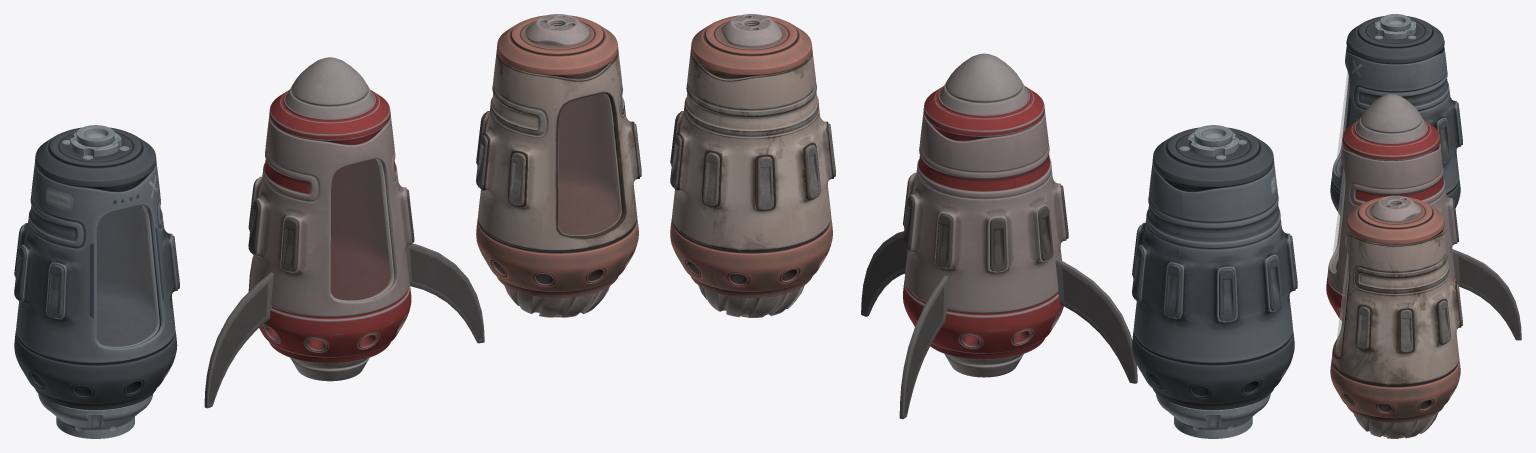
Rendered from sci-fi_pod_collection.glb.
The picture shows the model from 3 angles, left to right: view 1: azimuth 30°, elevation 25°; view 2: azimuth 150°, elevation 25°; view 3: azimuth 270°, elevation 25°; orthographic projection. The views are drawn at different scales.
Visible parts, largest first — view 1: 62321108__7179P001_2_0, 62321108__7179P001_3_0, 62321108__7179P001_23_0, Line002_glass_0 (×3), 62321128__109587P001_mid3_0, 62321128__109587P001_mid1_0, 62321128__109587P001_mid2_0, Plane004_poch_0, Cylinder003_t2_0, Canister_20, 62321092__6034P, 62321096__6084P (+5 smaller); view 2: 62321108__7179P001_2_0, 62321108__7179P001_3_0, 62321108__7179P001_23_0, Plane004_poch_0, Cylinder003_t2_0, 62321113__7264P001_m1_0, 62321113__7264P001_m3_0, 62321113__7264P001_m2_0, Canister_20, 62321092__6034P, 62321096__6084P, Canister_21 (+1 smaller); view 3: 62321108__7179P001_3_0, 62321108__7179P001_2_0, 62321108__7179P001_23_0, Cylinder003_t2_0, Plane004_poch_0, Line002_glass_0 (×3), 62321113__7264P001_m1_0, 62321092__6034P, 62321096__6084P, Canister_21, 62321113__7264P001_m3_0.
Boxes of the visible parts, x1=… form: 62321108__7179P001_2_0: x1=14, y1=127, x2=177, y2=409; 62321108__7179P001_3_0: x1=476, y1=15, x2=639, y2=297; 62321108__7179P001_23_0: x1=249, y1=90, x2=412, y2=363; Line002_glass_0 (×3): x1=96, y1=93, x2=621, y2=347; 62321128__109587P001_mid3_0: x1=96, y1=205, x2=156, y2=346; 62321128__109587P001_mid1_0: x1=558, y1=93, x2=617, y2=234; 62321128__109587P001_mid2_0: x1=330, y1=159, x2=390, y2=300; Plane004_poch_0: x1=204, y1=243, x2=484, y2=408; Cylinder003_t2_0: x1=285, y1=57, x2=374, y2=118; Canister_20: x1=38, y1=393, x2=152, y2=438; 62321092__6034P: x1=504, y1=285, x2=609, y2=317; 62321096__6084P: x1=525, y1=14, x2=589, y2=46; 62321108__7179P001_2_0: x1=1132, y1=127, x2=1295, y2=409; 62321108__7179P001_3_0: x1=670, y1=15, x2=833, y2=297; 62321108__7179P001_23_0: x1=903, y1=86, x2=1066, y2=359; Plane004_poch_0: x1=861, y1=231, x2=1137, y2=418; Cylinder003_t2_0: x1=940, y1=53, x2=1028, y2=114; 62321113__7264P001_m1_0: x1=670, y1=113, x2=835, y2=209; 62321113__7264P001_m3_0: x1=1132, y1=225, x2=1297, y2=321; 62321113__7264P001_m2_0: x1=903, y1=175, x2=1068, y2=271; Canister_20: x1=1155, y1=393, x2=1270, y2=438; 62321092__6034P: x1=698, y1=285, x2=804, y2=317; 62321096__6084P: x1=721, y1=14, x2=781, y2=47; Canister_21: x1=1179, y1=125, x2=1246, y2=159; 62321108__7179P001_3_0: x1=1330, y1=196, x2=1461, y2=422; 62321108__7179P001_2_0: x1=1330, y1=16, x2=1461, y2=215; 62321108__7179P001_23_0: x1=1326, y1=120, x2=1457, y2=320; Cylinder003_t2_0: x1=1356, y1=94, x2=1426, y2=142; Plane004_poch_0: x1=1452, y1=249, x2=1521, y2=340; Line002_glass_0 (×3): x1=1331, y1=71, x2=1349, y2=356; 62321113__7264P001_m1_0: x1=1356, y1=283, x2=1462, y2=352; 62321092__6034P: x1=1353, y1=413, x2=1437, y2=438; 62321096__6084P: x1=1370, y1=195, x2=1420, y2=222; Canister_21: x1=1375, y1=14, x2=1416, y2=39; 62321113__7264P001_m3_0: x1=1438, y1=102, x2=1462, y2=162.
Bounding box in the file's own units: 3.82 × 1.86 × 1.33.
17 materials, 17 textured.
